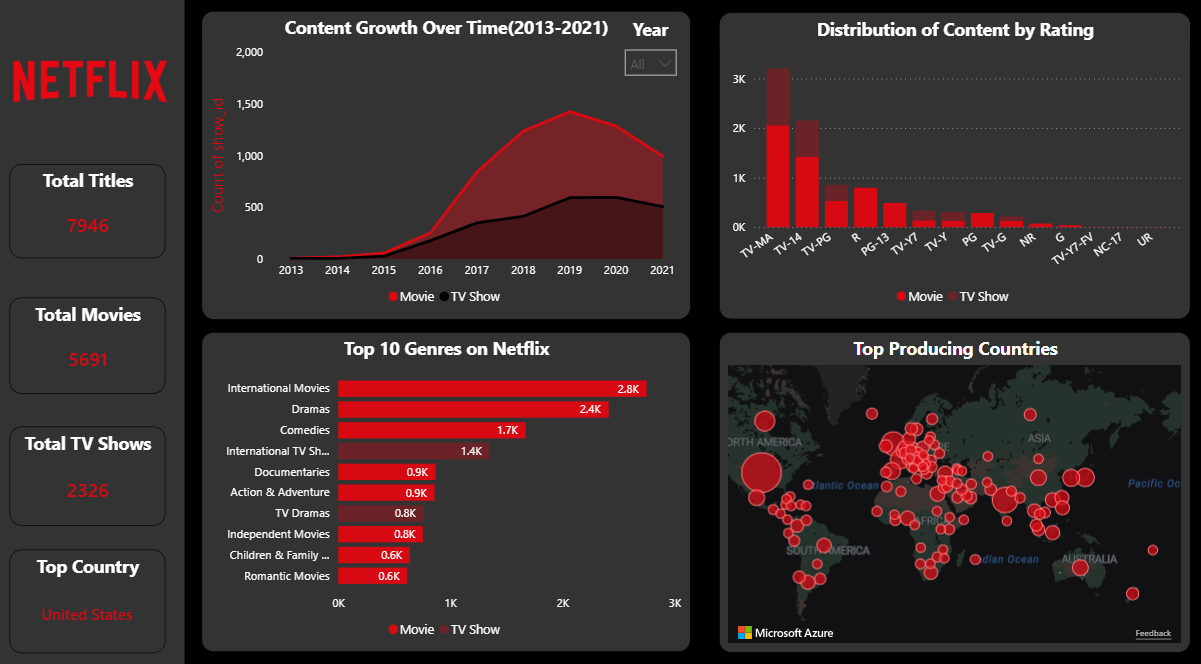

This screenshot's page, from the dashboard's own definition file:
{"tool":"powerbi","page":{"name":"Page 1","canvas":[1280,720],"ordinal":0},"visuals":[{"type":"shape","box":[0,0,200,720],"z":0},{"type":"areaChart","title":"Content Growth Over Time(2013-2021)","fields":{"Y":["CountNonNull(netflix_titles.show_id)"],"Category":["netflix_titles.date_added.Variation.Date Hierarchy.Year"],"Series":["netflix_titles.type"]},"box":[218.1,18.6,518.7,327.2],"z":1000},{"type":"columnChart","title":"Distribution of Content by Rating ","fields":{"Category":["netflix_titles.rating"],"Y":["CountNonNull(netflix_titles.show_id)"],"Series":["netflix_titles.type"]},"box":[766.7,20,500,325],"z":2000},{"type":"barChart","title":"Top 10 Genres on Netflix","fields":{"Category":["netflix_listed_in.category"],"Series":["netflix_titles.type"],"Y":["CountNonNull(netflix_listed_in.show_id)"]},"box":[218.1,360,518.7,339.6],"z":3000},{"type":"azureMap","title":"Top Producing Countries","fields":{"Category":["countries_released.country"],"Size":["CountNonNull(countries_released.show_id)"]},"box":[766.7,360,500,340],"z":4000},{"type":"image","box":[0,0,200,181.7],"z":5000},{"type":"cardVisual","title":"Total Titles","fields":{"Data":["Count(countries_released.show_id)"]},"box":[15,181.7,165,100],"z":6000},{"type":"cardVisual","title":"Total Movies","fields":{"Data":["Count(countries_released.show_id)"]},"box":[15,323.3,165,101.7],"z":7000},{"type":"cardVisual","title":"Total TV Shows","fields":{"Data":["Count(netflix_cast.show_id)"]},"box":[15,460,165,105],"z":8000},{"type":"cardVisual","title":"Top Country","fields":{"Data":["Min(countries_released.country)"]},"box":[15,590,165,110],"z":9000},{"type":"slicer","title":"Year","fields":{"Values":["netflix_titles.date_added"]},"box":[656.2,24.8,74.5,65.6],"z":10000}]}

Visuals, with their boxes in screenshot pixels (x1, y1, x2, y2), scaled from the page's 1280x720 canvas onto the 1201x664 screenshot:
shape: bbox=[0, 0, 188, 663]
"Content Growth Over Time(2013-2021)" areaChart: bbox=[205, 17, 691, 319]
"Distribution of Content by Rating " columnChart: bbox=[719, 18, 1189, 318]
"Top 10 Genres on Netflix" barChart: bbox=[205, 332, 691, 645]
"Top Producing Countries" azureMap: bbox=[719, 332, 1189, 646]
image: bbox=[0, 0, 188, 168]
"Total Titles" cardVisual: bbox=[14, 168, 169, 260]
"Total Movies" cardVisual: bbox=[14, 298, 169, 392]
"Total TV Shows" cardVisual: bbox=[14, 424, 169, 521]
"Top Country" cardVisual: bbox=[14, 544, 169, 646]
"Year" slicer: bbox=[616, 23, 686, 83]
